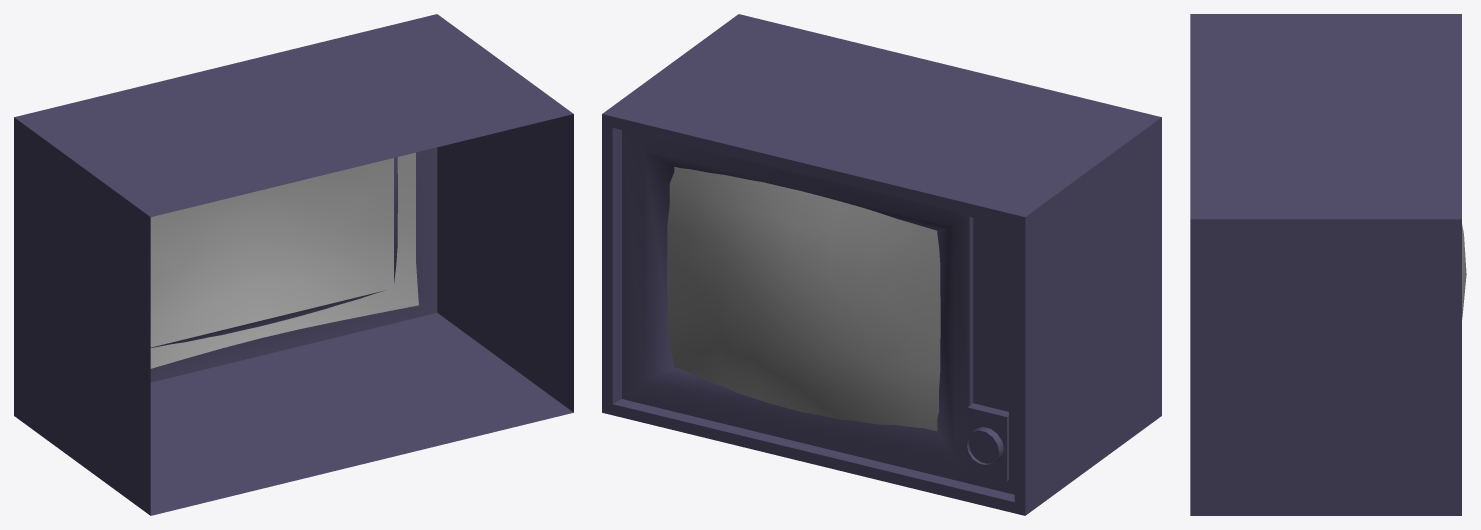
The picture shows the model from 3 angles, left to right: view 1: azimuth 30°, elevation 25°; view 2: azimuth 150°, elevation 25°; view 3: azimuth 270°, elevation 25°; orthographic projection.
Parts seen in each view (by area): view 1: TV, Screen; view 2: TV, Screen; view 3: TV.
Part boxes in pixels (x1,y1,x2,y2): TV: (14, 14, 573, 515); Screen: (150, 152, 418, 368); TV: (602, 14, 1161, 515); Screen: (667, 166, 940, 431); TV: (1190, 14, 1461, 515).
Size of the model in its own units: 254 by 171 by 144.
